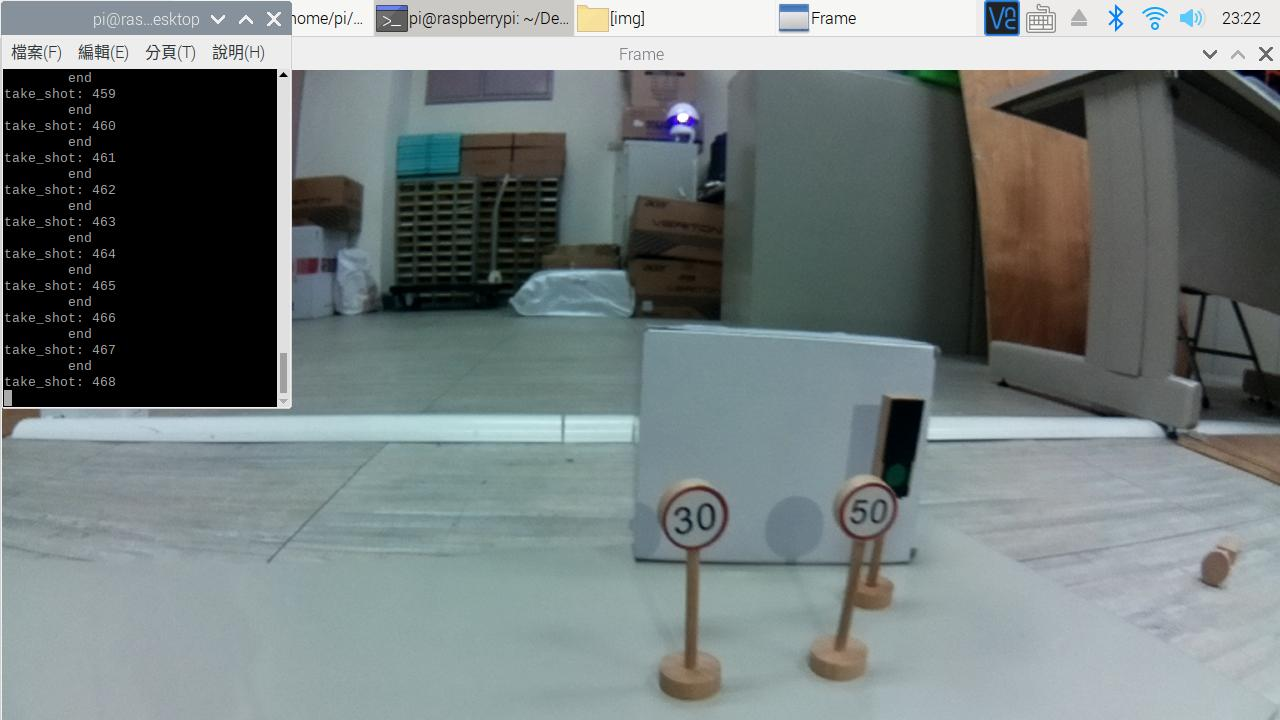Green: (877, 382, 925, 500)
Speed30: (659, 487, 738, 552)
Speed50: (833, 477, 895, 543)
